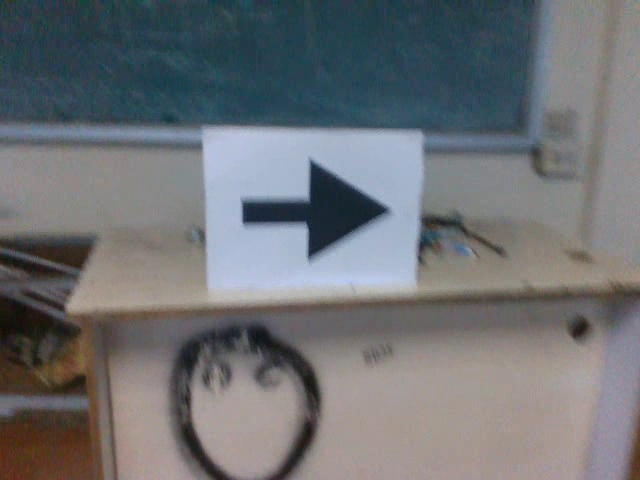Right: (227, 153, 396, 270)
